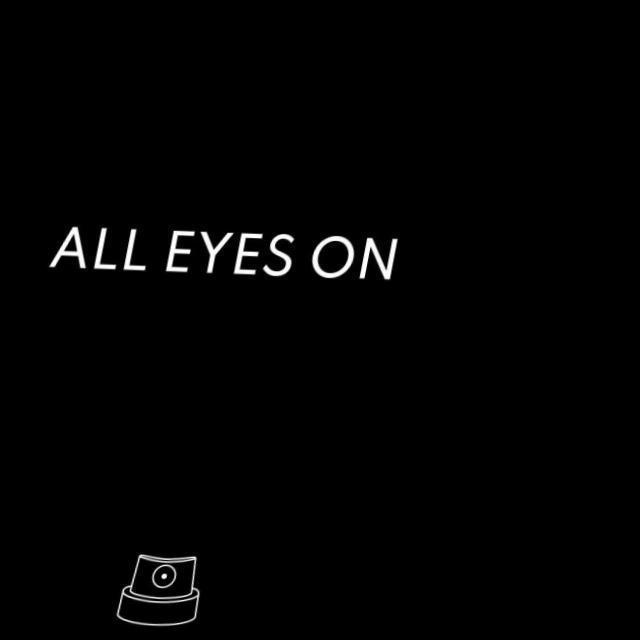nonspitting: (49, 226, 400, 286), (112, 554, 202, 632)
